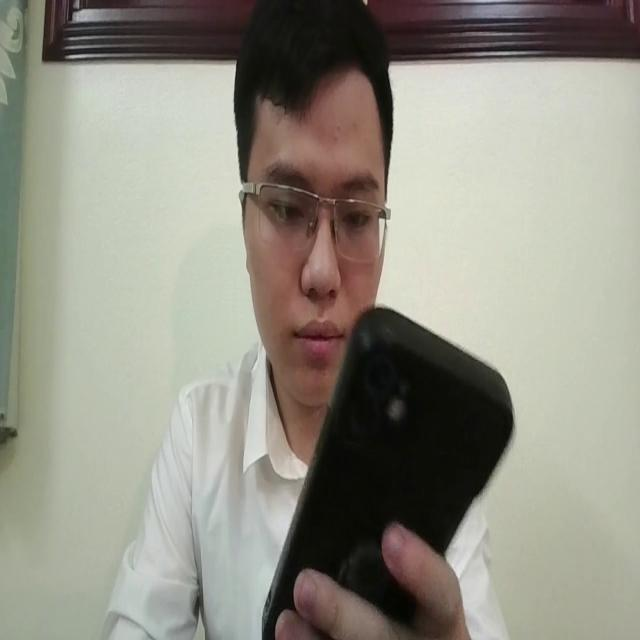phone: (261, 297, 516, 640)
student: (94, 0, 512, 640)
